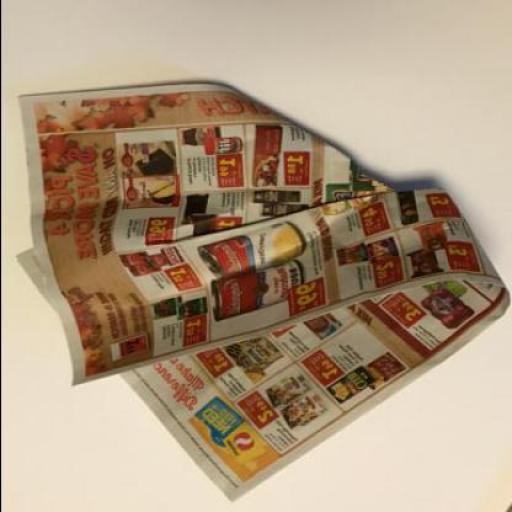paper: (16, 83, 511, 504)
